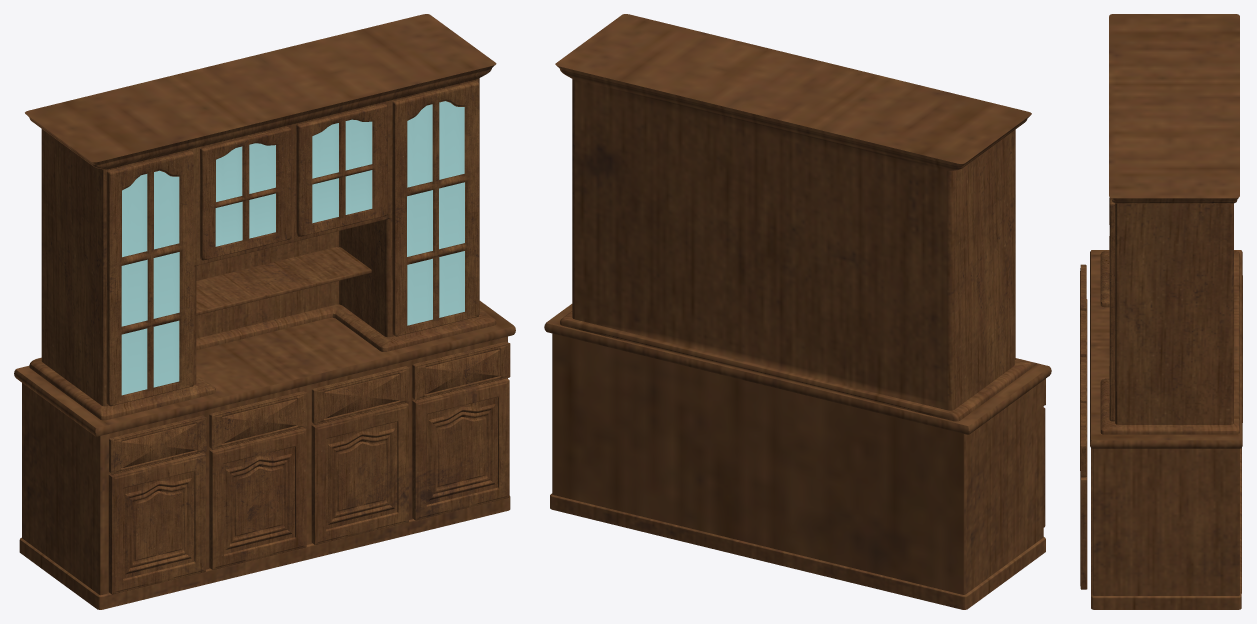
Rendered from tana_ontex.fbx.
3 renders of one model, left to right at view 1: azimuth 30°, elevation 25°; view 2: azimuth 150°, elevation 25°; view 3: azimuth 270°, elevation 25°, orthographic. The views are drawn at different scales.
Parts seen in each view (by area): view 1: pasted__polySurface4, pasted__polySurface5, pasted__polySurface94, pasted__polySurface95, pasted__polySurface23, pasted__polySurface22, pasted__polySurface21, pasted__polySurface20, pasted__polySurface98, pasted__polySurface97, pasted__pCube63, pasted__polySurface26 (+3 smaller); view 2: pasted__polySurface4, pasted__polySurface5; view 3: pasted__polySurface4, pasted__polySurface5, pasted__polySurface94, pasted__polySurface22, pasted__polySurface24, pasted__polySurface27, pasted__polySurface25, pasted__polySurface26.
Part boxes in pixels (x1,y1,x2,y2): pasted__polySurface4: [25, 14, 496, 420]; pasted__polySurface5: [14, 301, 515, 609]; pasted__polySurface94: [392, 81, 479, 336]; pasted__polySurface95: [106, 150, 193, 406]; pasted__polySurface23: [108, 452, 205, 594]; pasted__polySurface22: [412, 378, 509, 520]; pasted__polySurface21: [209, 428, 306, 569]; pasted__polySurface20: [311, 403, 408, 544]; pasted__polySurface98: [200, 127, 291, 260]; pasted__polySurface97: [296, 103, 387, 236]; pasted__pCube63: [196, 247, 371, 315]; pasted__polySurface26: [311, 366, 409, 424]; pasted__polySurface4: [555, 14, 1031, 421]; pasted__polySurface5: [544, 304, 1051, 609]; pasted__polySurface4: [1100, 14, 1239, 434]; pasted__polySurface5: [1090, 250, 1242, 609]; pasted__polySurface94: [1109, 197, 1115, 421]; pasted__polySurface22: [1080, 437, 1087, 589]; pasted__polySurface24: [1080, 403, 1086, 477]; pasted__polySurface27: [1080, 310, 1086, 362]; pasted__polySurface25: [1080, 264, 1086, 316]; pasted__polySurface26: [1080, 357, 1086, 408].
Size of the model in its own units: 261 by 260 by 93.4.
Materials: 2 (2 with a texture image).
